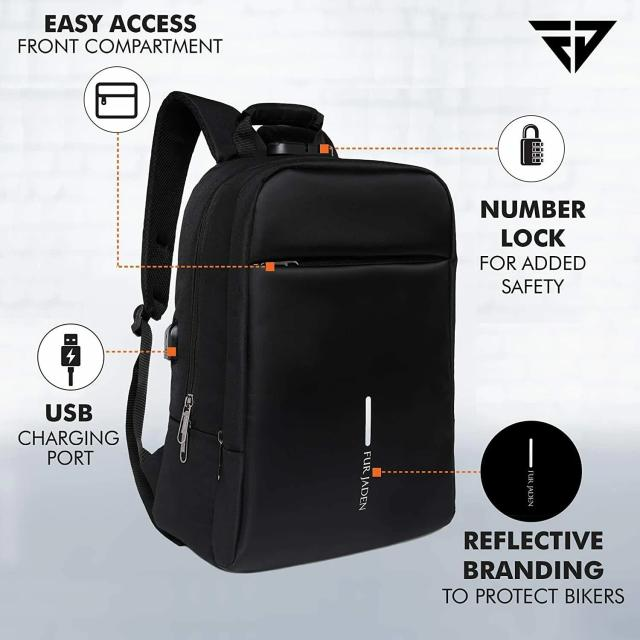backpack: (126, 91, 458, 575)
